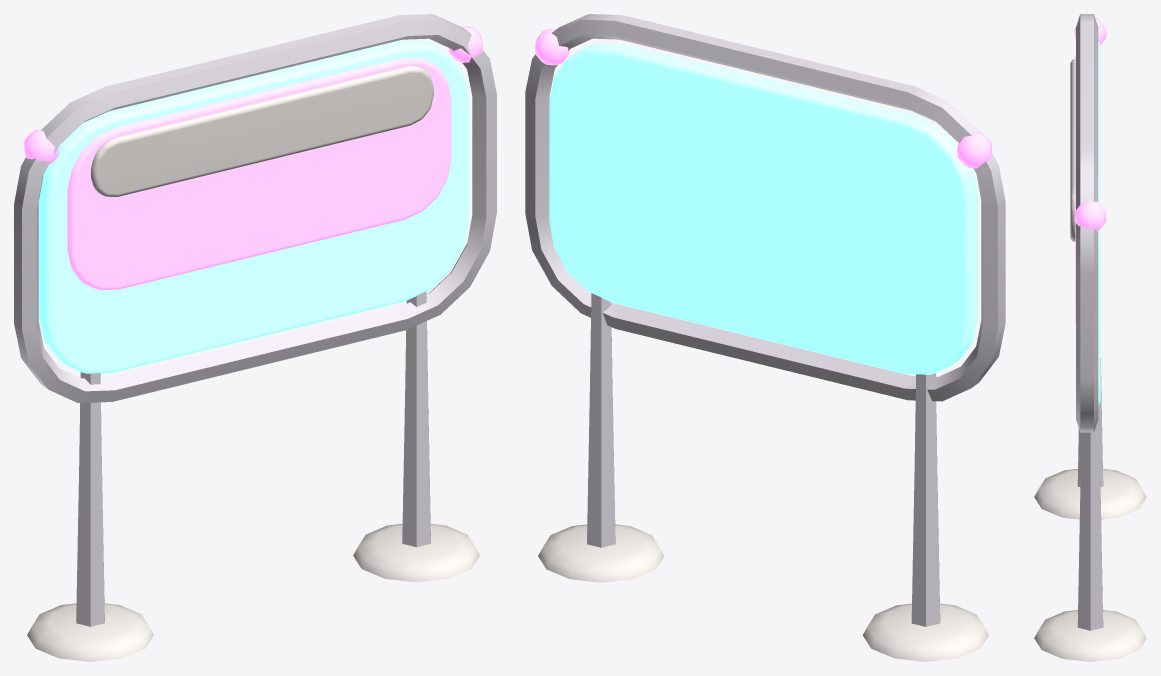
The model's file is holo_sign.glb.
3 renders of one model, left to right at view 1: azimuth 30°, elevation 25°; view 2: azimuth 150°, elevation 25°; view 3: azimuth 270°, elevation 25°, orthographic. The views are drawn at different scales.
Visible parts, largest first — view 1: holo_sign; view 2: holo_sign; view 3: holo_sign.
Part boxes in pixels (left/top/right/bottom): holo_sign: left=14, top=14, right=496, bottom=661; holo_sign: left=525, top=14, right=1005, bottom=661; holo_sign: left=1034, top=14, right=1146, bottom=661.
Bounding box in the file's own units: 2.91 × 3.21 × 0.675.
